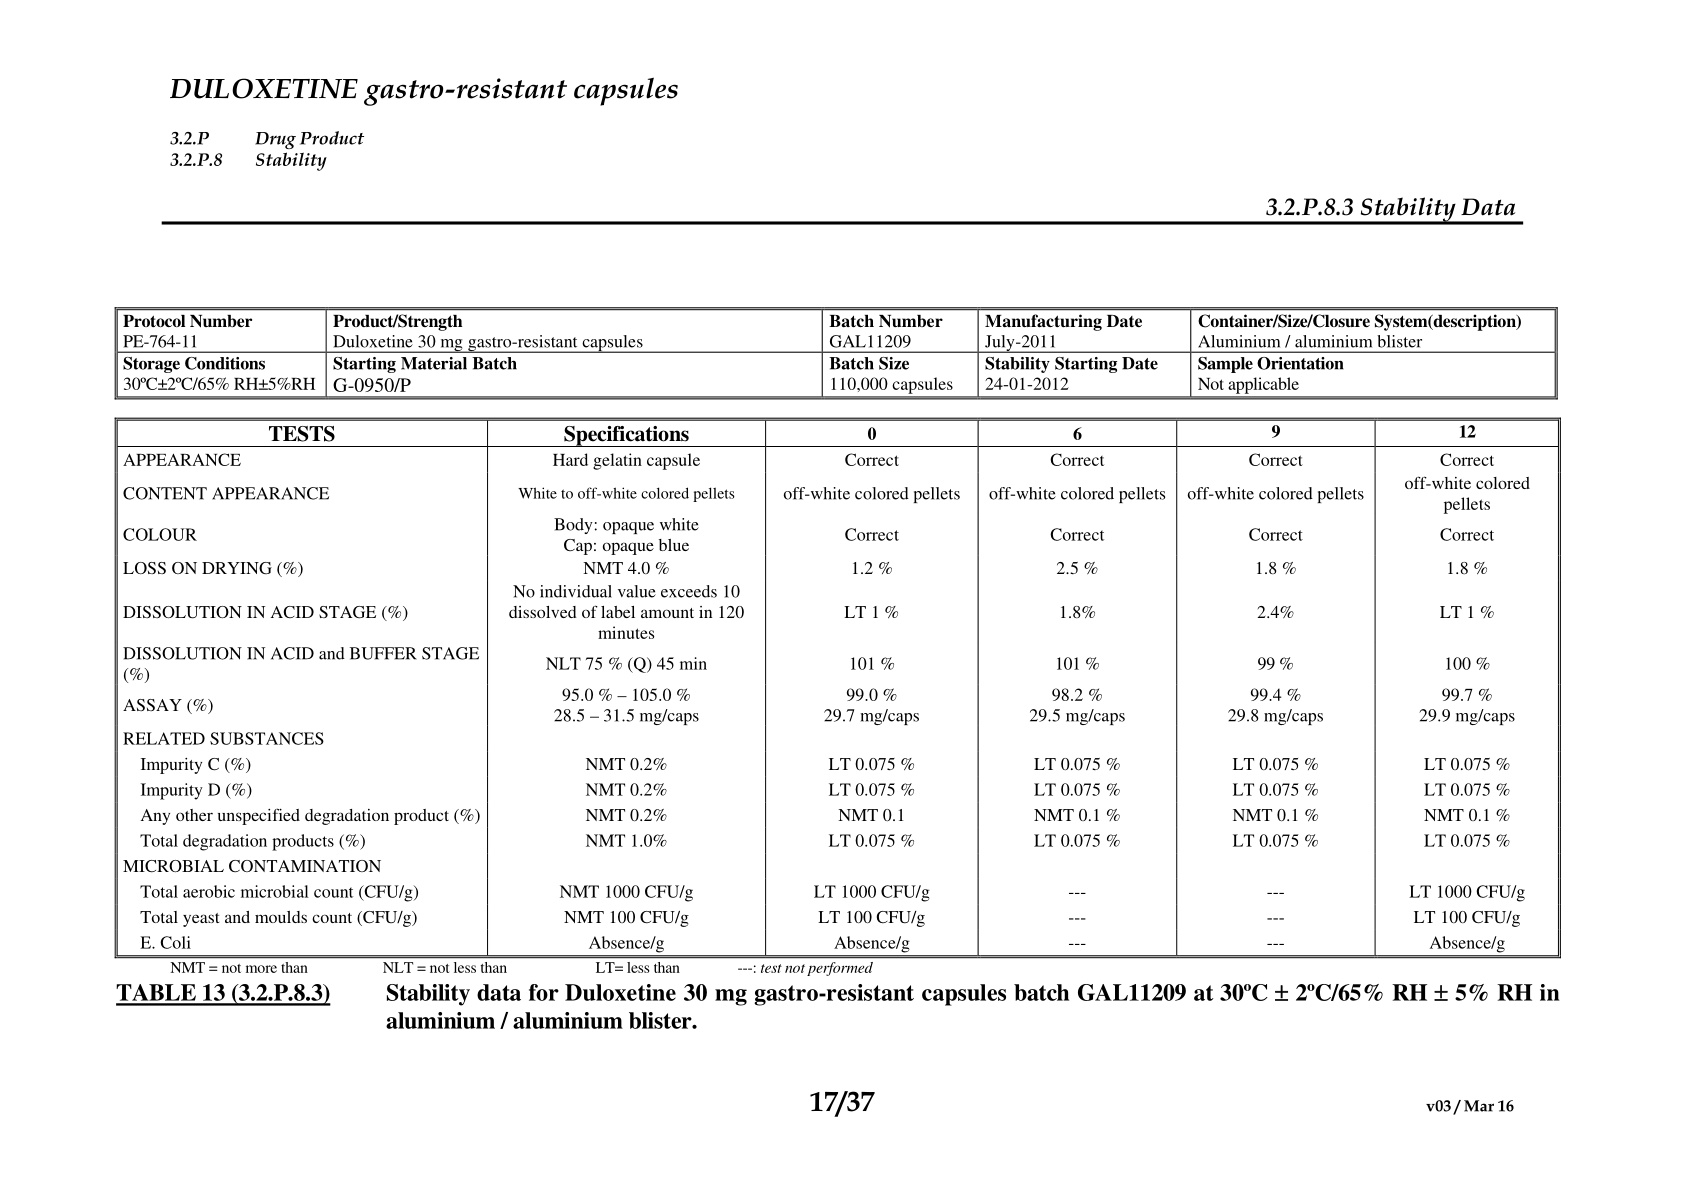full_lined: (113, 307, 1558, 400)
partial_lined: (113, 418, 1562, 959)
